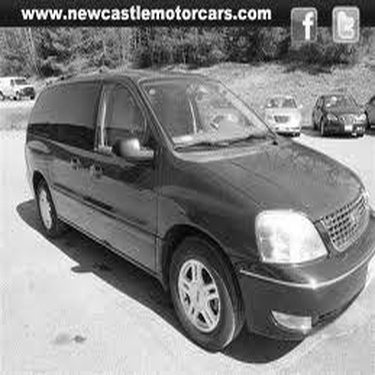car: (24, 66, 374, 359), (186, 86, 250, 133), (308, 90, 369, 138), (253, 89, 305, 141), (1, 75, 46, 107), (361, 88, 372, 136)
